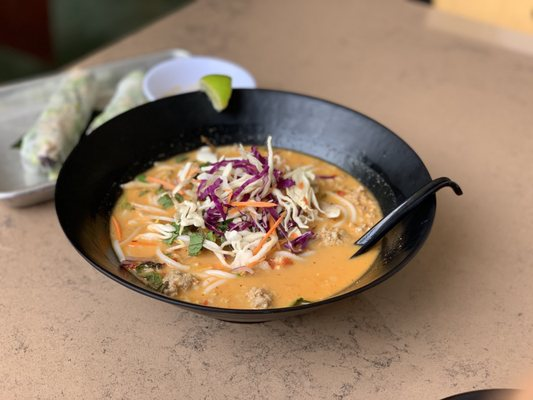curry: (2, 1, 533, 400)
sandwich: (109, 141, 387, 311)
